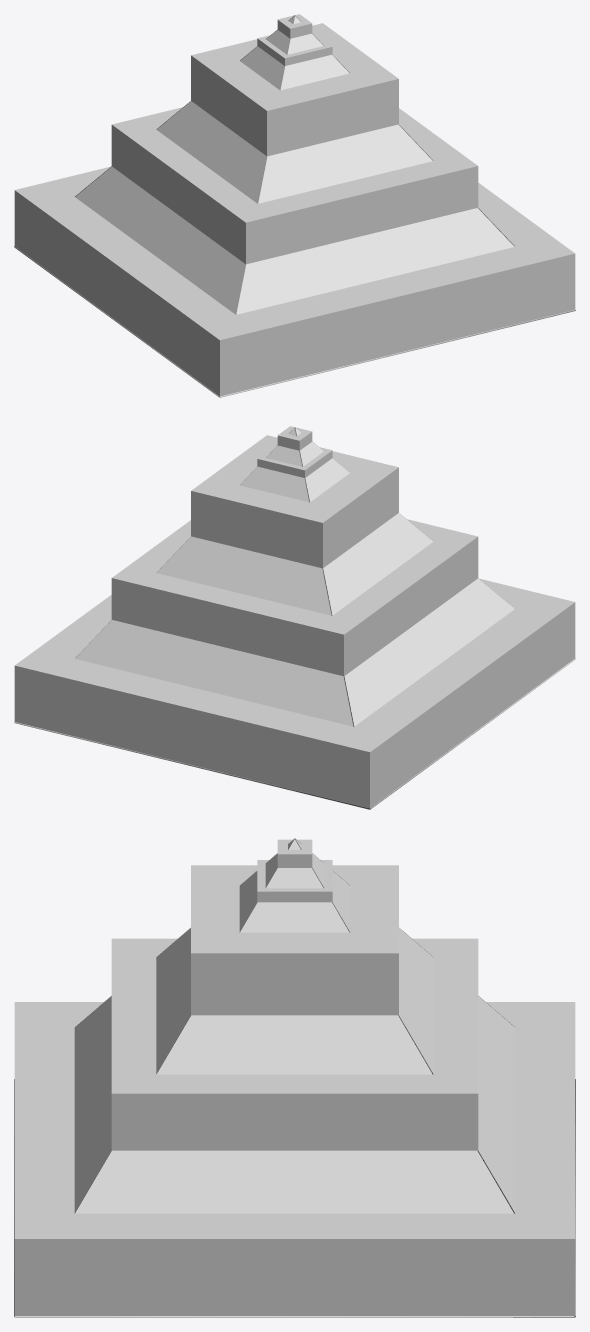
3 views of the same model, one above another, from view 1: azimuth 30°, elevation 25°; view 2: azimuth 150°, elevation 25°; view 3: azimuth 270°, elevation 25° (orthographic). The views are drawn at different scales.
Visible parts, largest first — view 1: BB_, Cone, BB_.001, BB_.002, BB_.004, BB_.005; view 2: BB_, Cone, BB_.001, BB_.002, BB_.004, BB_.005; view 3: BB_, Cone, BB_.001, BB_.002, BB_.004, BB_.005.
Part boxes in pixels (left/top/right/bottom): BB_: left=14, top=166, right=575, bottom=397; Cone: left=14, top=15, right=575, bottom=397; BB_.001: left=111, top=107, right=478, bottom=264; BB_.002: left=191, top=23, right=398, bottom=156; BB_.004: left=257, top=32, right=332, bottom=65; BB_.005: left=277, top=14, right=312, bottom=38; BB_: left=14, top=578, right=575, bottom=809; Cone: left=14, top=427, right=575, bottom=809; BB_.001: left=111, top=519, right=478, bottom=676; BB_.002: left=191, top=435, right=398, bottom=568; BB_.004: left=257, top=444, right=332, bottom=477; BB_.005: left=277, top=426, right=312, bottom=450; BB_: left=14, top=1002, right=575, bottom=1317; Cone: left=14, top=838, right=575, bottom=1316; BB_.001: left=111, top=938, right=478, bottom=1150; BB_.002: left=191, top=865, right=398, bottom=1015; BB_.004: left=257, top=860, right=332, bottom=902; BB_.005: left=277, top=839, right=312, bottom=867.
Bounding box in the file's own units: 224 × 159 × 224.
Materials: 1 (1 with a texture image).
